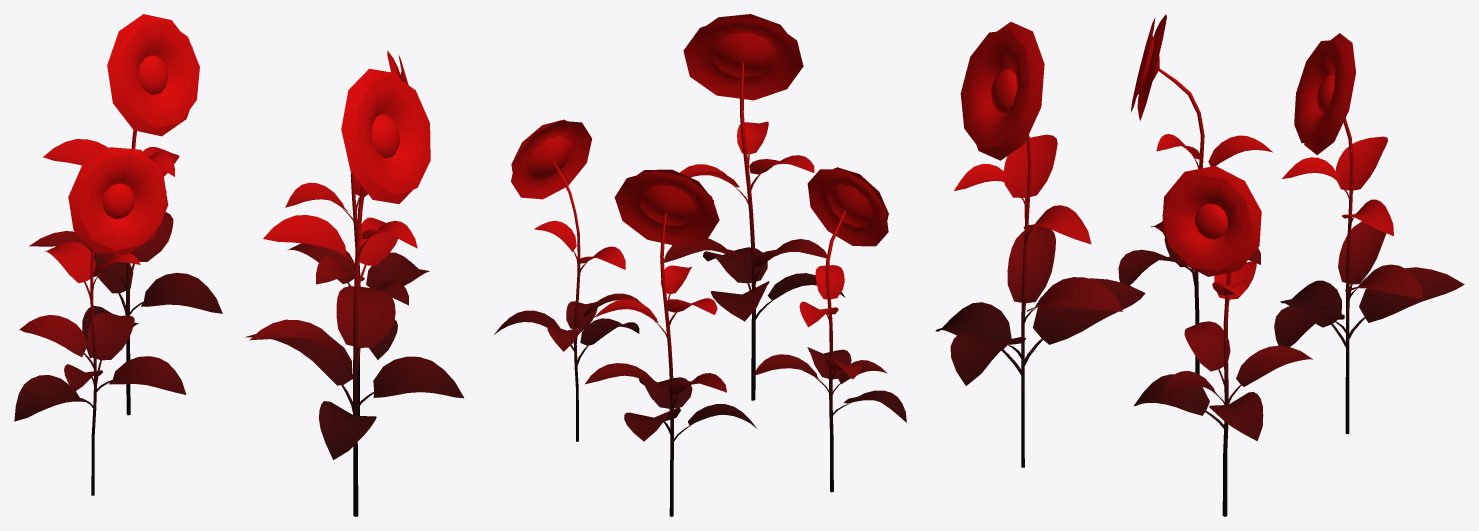
File: Sunflowers.fbx
The picture shows the model from 3 angles, left to right: view 1: azimuth 30°, elevation 25°; view 2: azimuth 150°, elevation 25°; view 3: azimuth 270°, elevation 25°; orthographic projection. The views are drawn at different scales.
Parts seen in each view (by area): view 1: Sunflowers_LOD0; view 2: Sunflowers_LOD0; view 3: Sunflowers_LOD0.
Part boxes in pixels (x1=…): Sunflowers_LOD0: x1=14, y1=14, x2=463, y2=516; Sunflowers_LOD0: x1=494, y1=14, x2=906, y2=516; Sunflowers_LOD0: x1=935, y1=14, x2=1464, y2=516.
Size of what is drawn, in the model's own units: 257 by 245 by 264.
